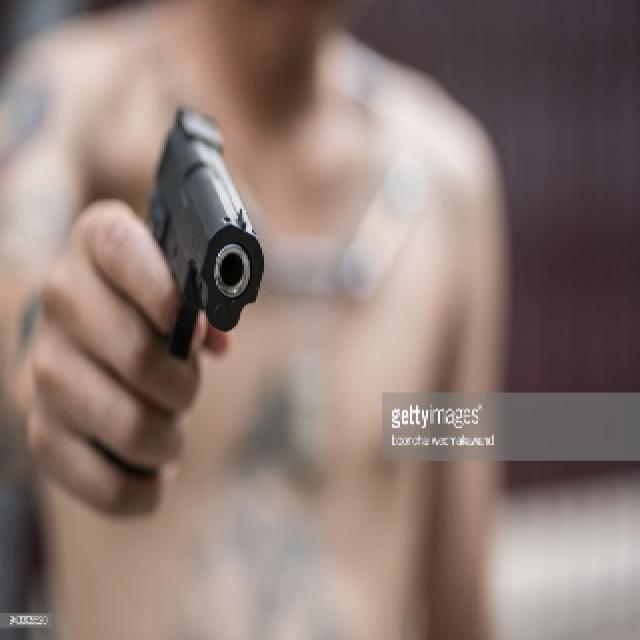weapon: (142, 100, 272, 358)
